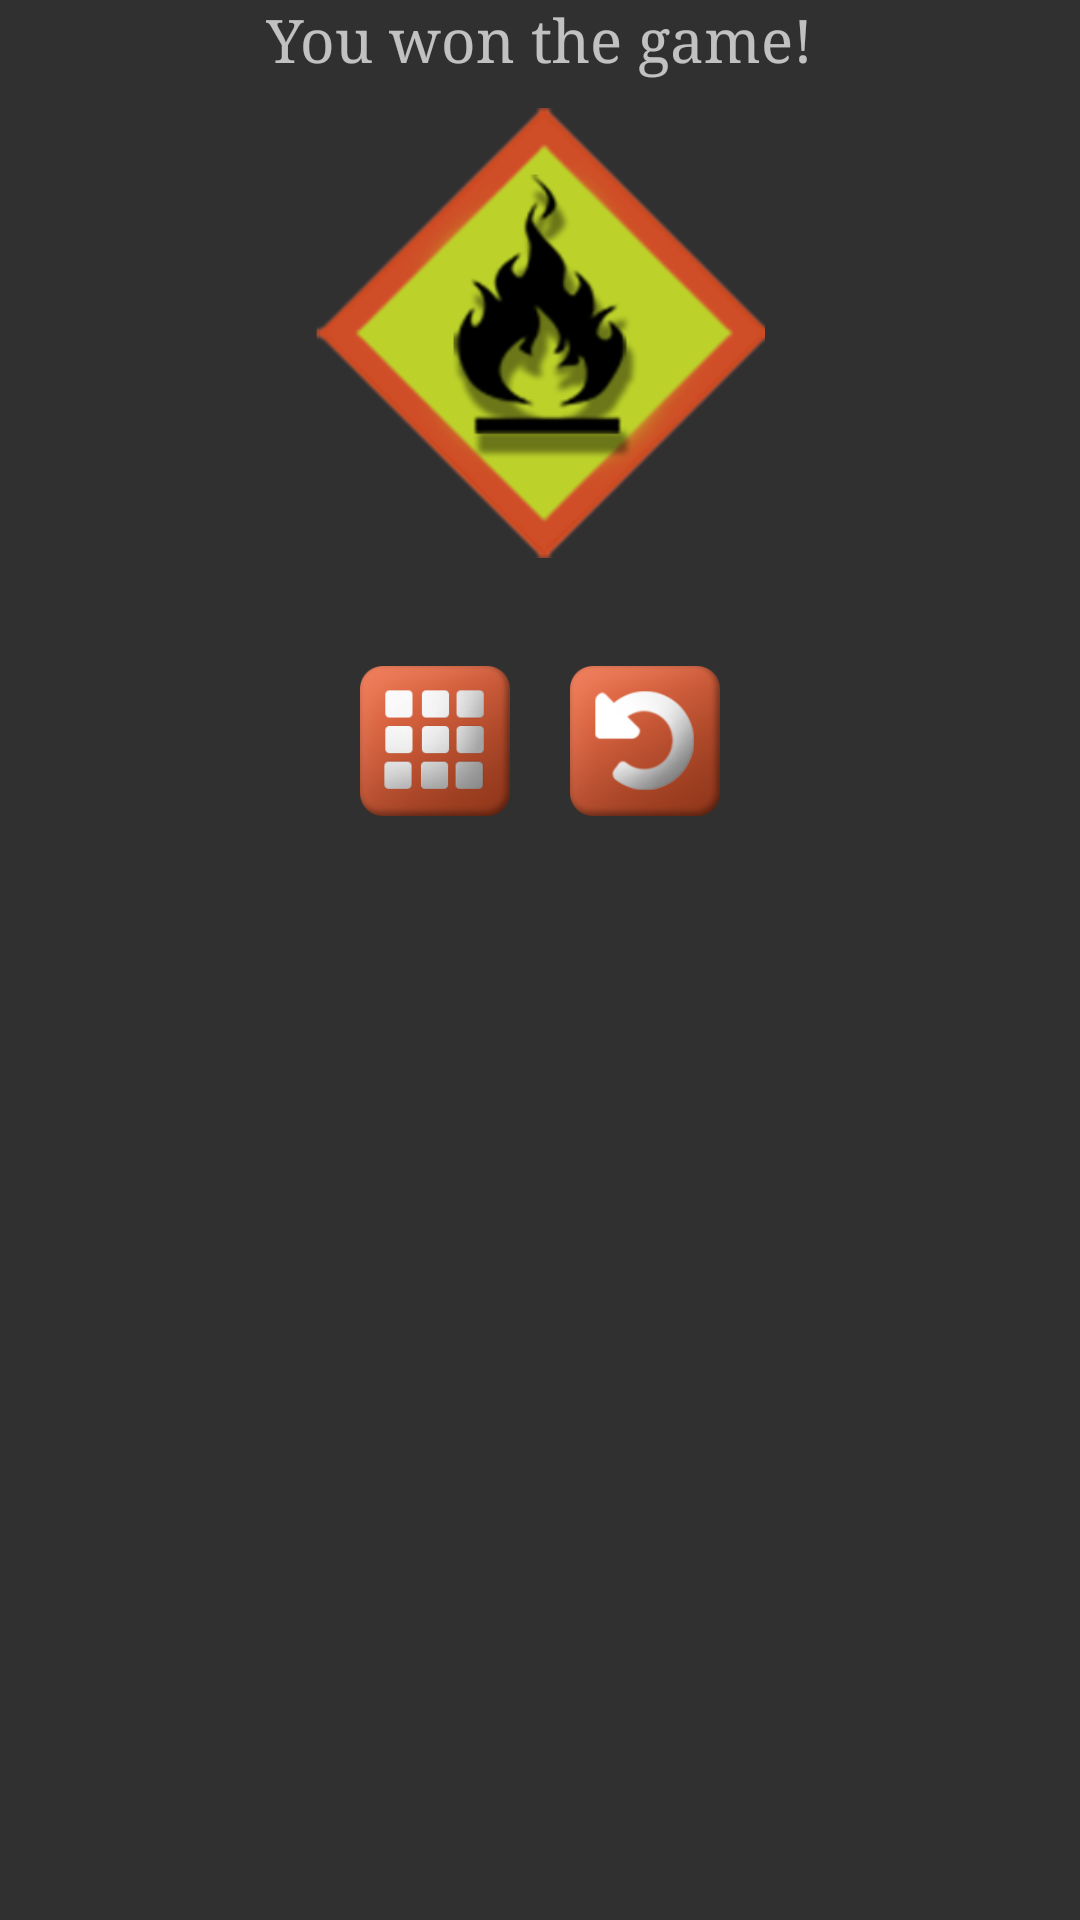

Where icons sit on this 1080*1920 app screen, as (x1, y1, x2, y2):
custom won meny: (360, 666, 510, 816)
custom won reverse: (570, 666, 720, 816)
